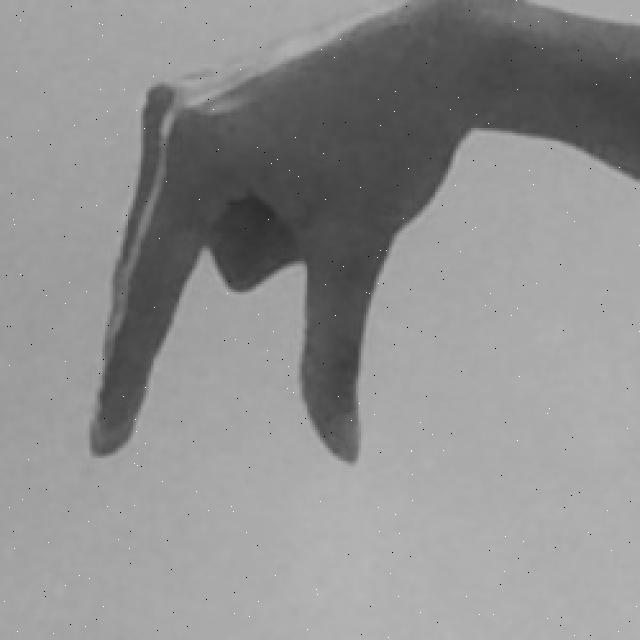Q: (82, 0, 640, 477)
